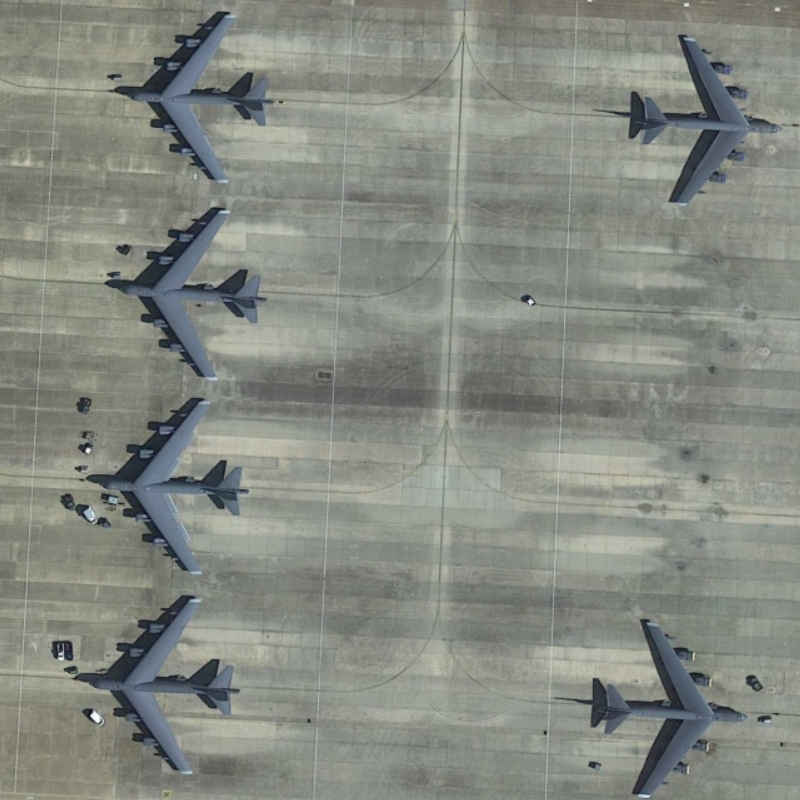A8: (86, 393, 260, 582), (79, 584, 245, 782), (114, 5, 287, 190), (583, 610, 751, 800), (625, 27, 788, 216), (115, 205, 274, 388)
